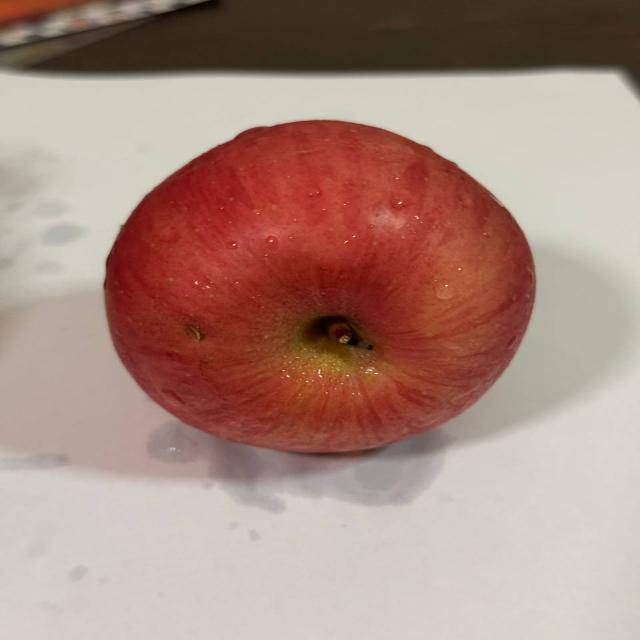apple: (89, 106, 555, 472)
